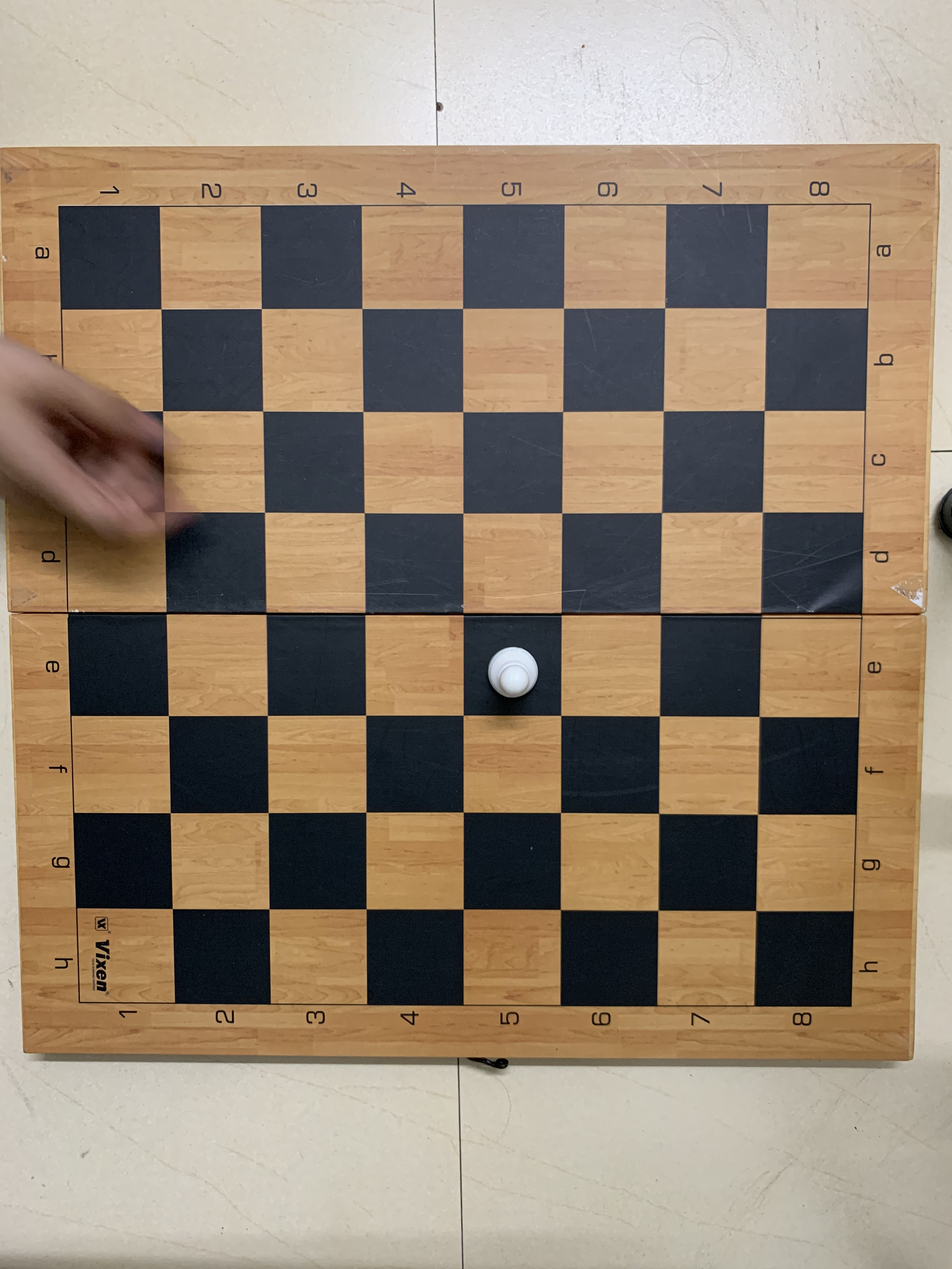white_pawn: (461, 612, 562, 715)
